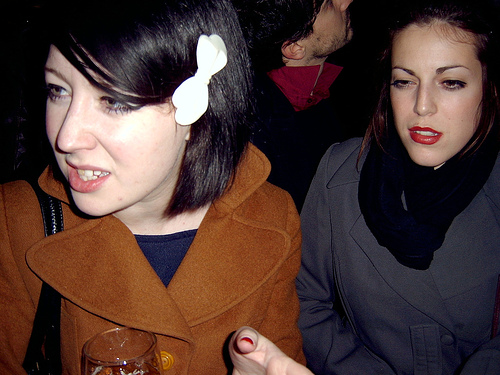without_mask: (32, 15, 262, 236), (380, 19, 500, 177), (272, 1, 366, 71)
